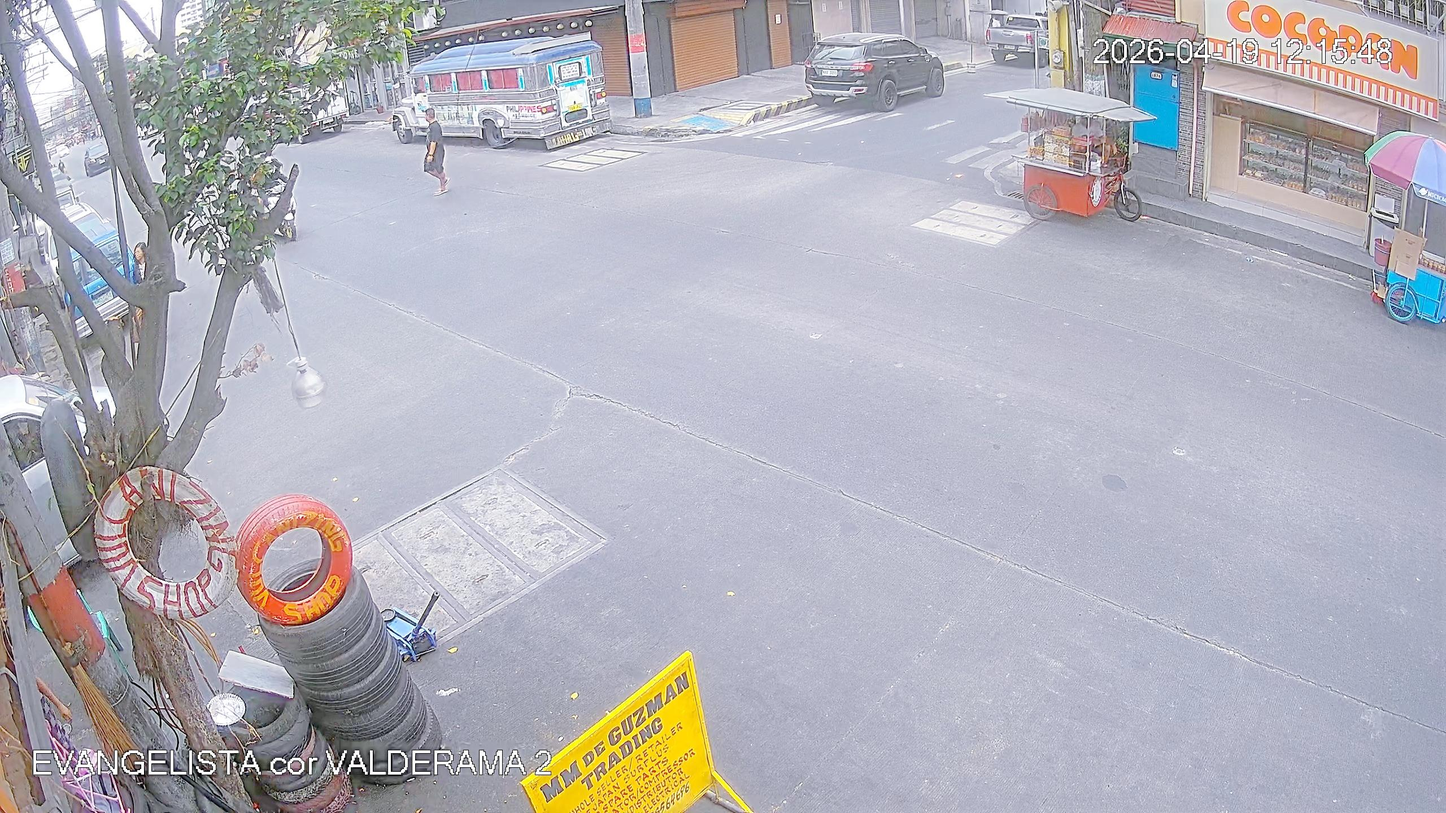Car: (812, 32, 943, 117), (83, 145, 114, 175)
Motor: (250, 156, 298, 238)
